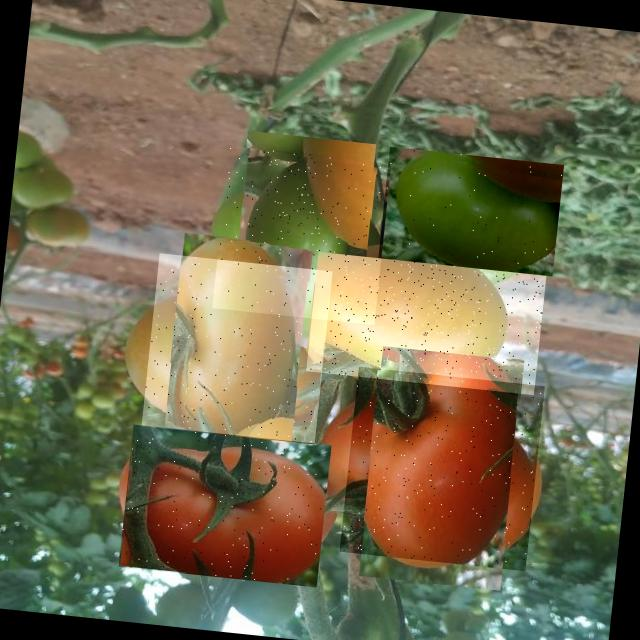Ripe Tomato: (339, 366, 544, 571), (118, 424, 331, 587)
Unripe Tomato: (141, 253, 332, 444), (306, 252, 546, 394), (212, 144, 391, 324), (378, 146, 564, 276)
